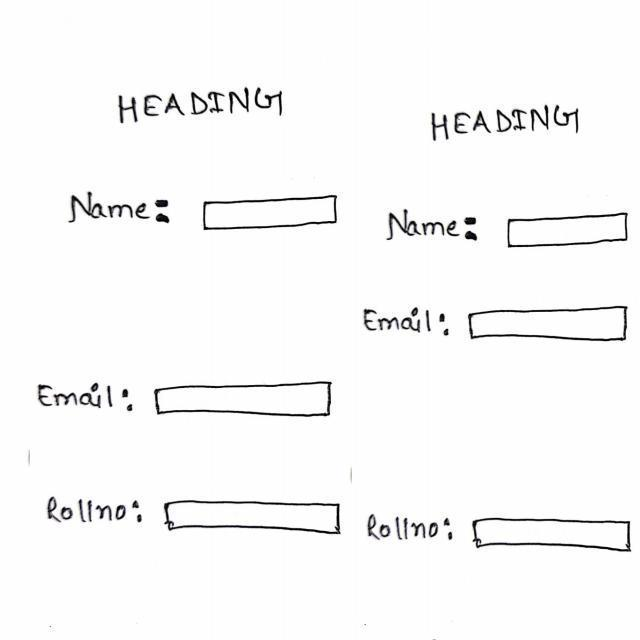textbox: (150, 374, 338, 432), (159, 494, 350, 549), (469, 506, 637, 562), (465, 299, 632, 351), (198, 190, 342, 243), (496, 209, 635, 254)
